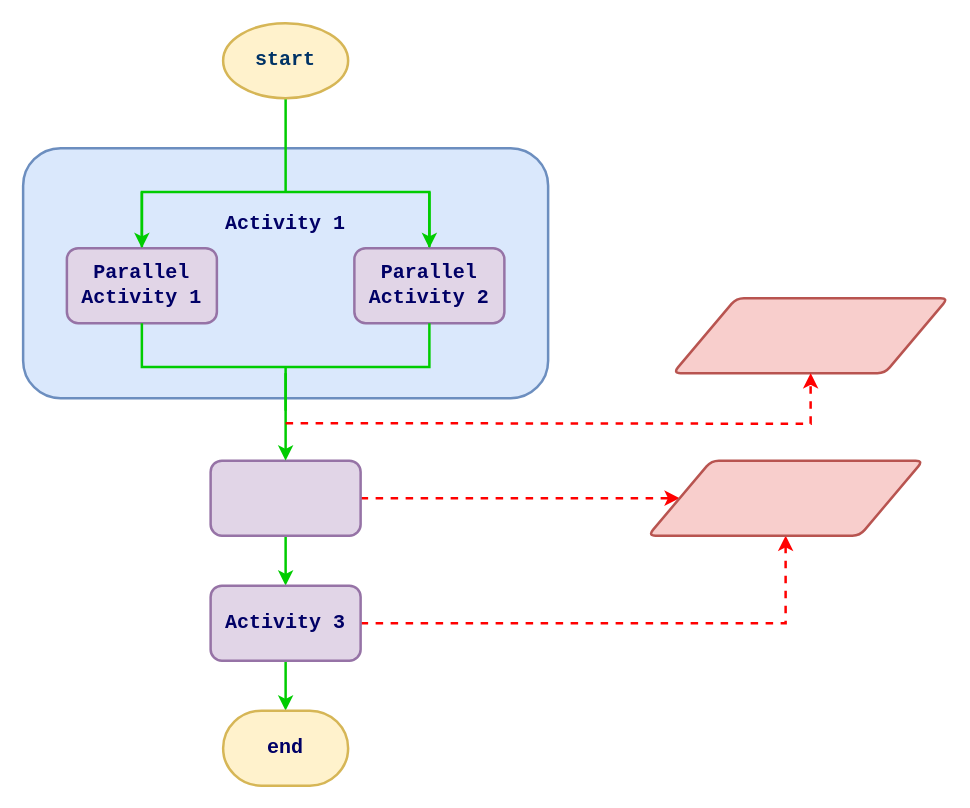
This 970x808 diagram has some shape labels left out. Here are the shapes that lost their labels. From the top down, the centre of each, then its label:
point 810,335: Concurrent Error Handler
point 285,497: Activity 2
point 785,497: Default Error Handler
